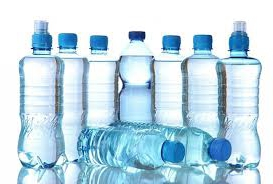plastic water bottle: (218, 20, 264, 169), (14, 26, 59, 170), (106, 126, 232, 168), (77, 123, 185, 171), (55, 32, 90, 165), (184, 34, 222, 126), (119, 31, 154, 121), (156, 31, 187, 125), (88, 34, 118, 122)
